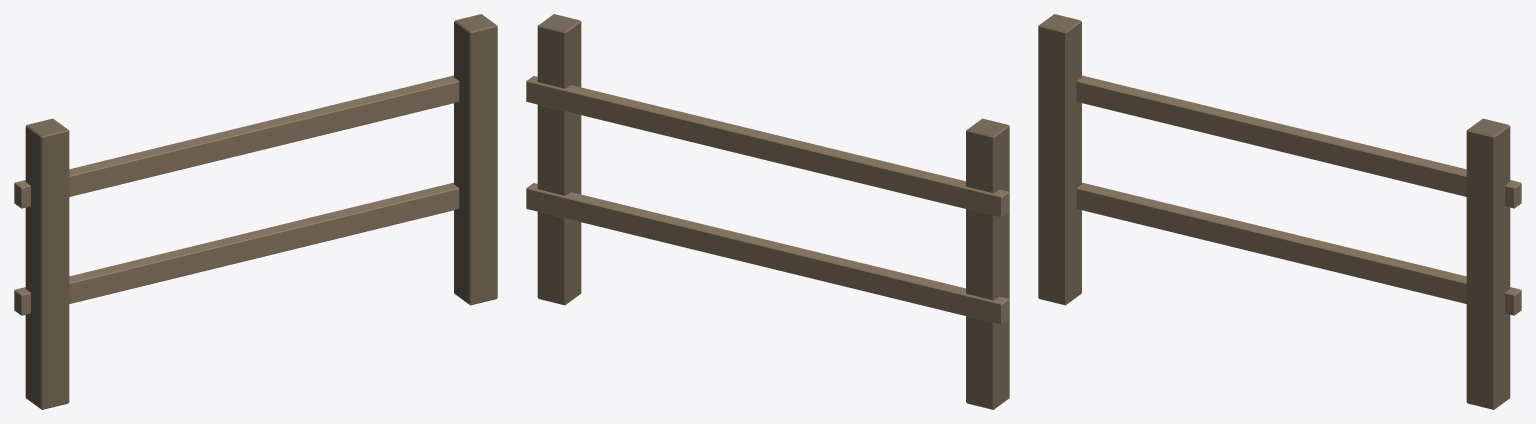
File: env_fence_rail_intact_b.glb
3 renders of one model, left to right at view 1: azimuth 30°, elevation 25°; view 2: azimuth 150°, elevation 25°; view 3: azimuth 330°, elevation 25°, orthographic.
Parts seen in each view (by area): view 1: material_2, material_0; view 2: material_0, material_2; view 3: material_2, material_0.
Part boxes in pixels (<box>): material_2: <box>25,14,497,409</box>; material_0: <box>14,75,459,315</box>; material_0: <box>526,76,1008,324</box>; material_2: <box>537,14,1009,409</box>; material_2: <box>1038,14,1510,409</box>; material_0: <box>1076,75,1521,315</box>.
Bounding box in the file's own units: 2 × 1.1 × 0.1325.
